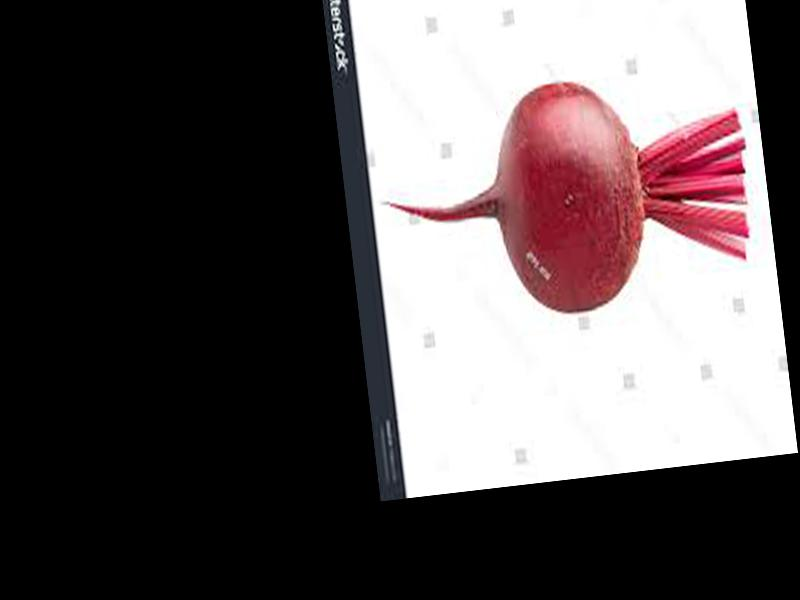Beet: (370, 63, 760, 333)
